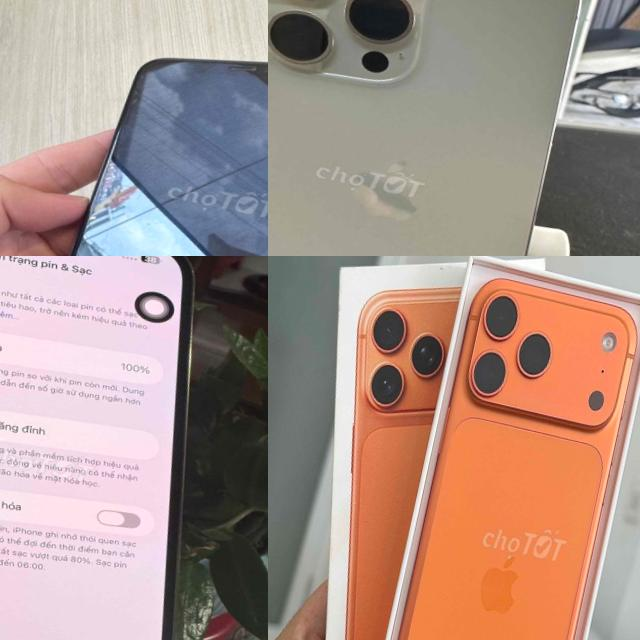gen_11: (8, 9, 268, 256)
gen_12_13: (0, 256, 266, 640)
gen_15: (268, 0, 640, 256)
gen_17: (366, 263, 640, 640)
